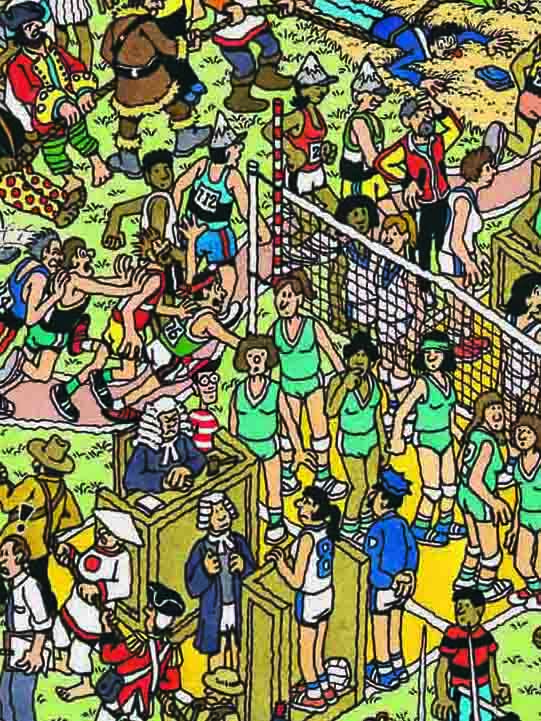waldo: (182, 354, 222, 406)
